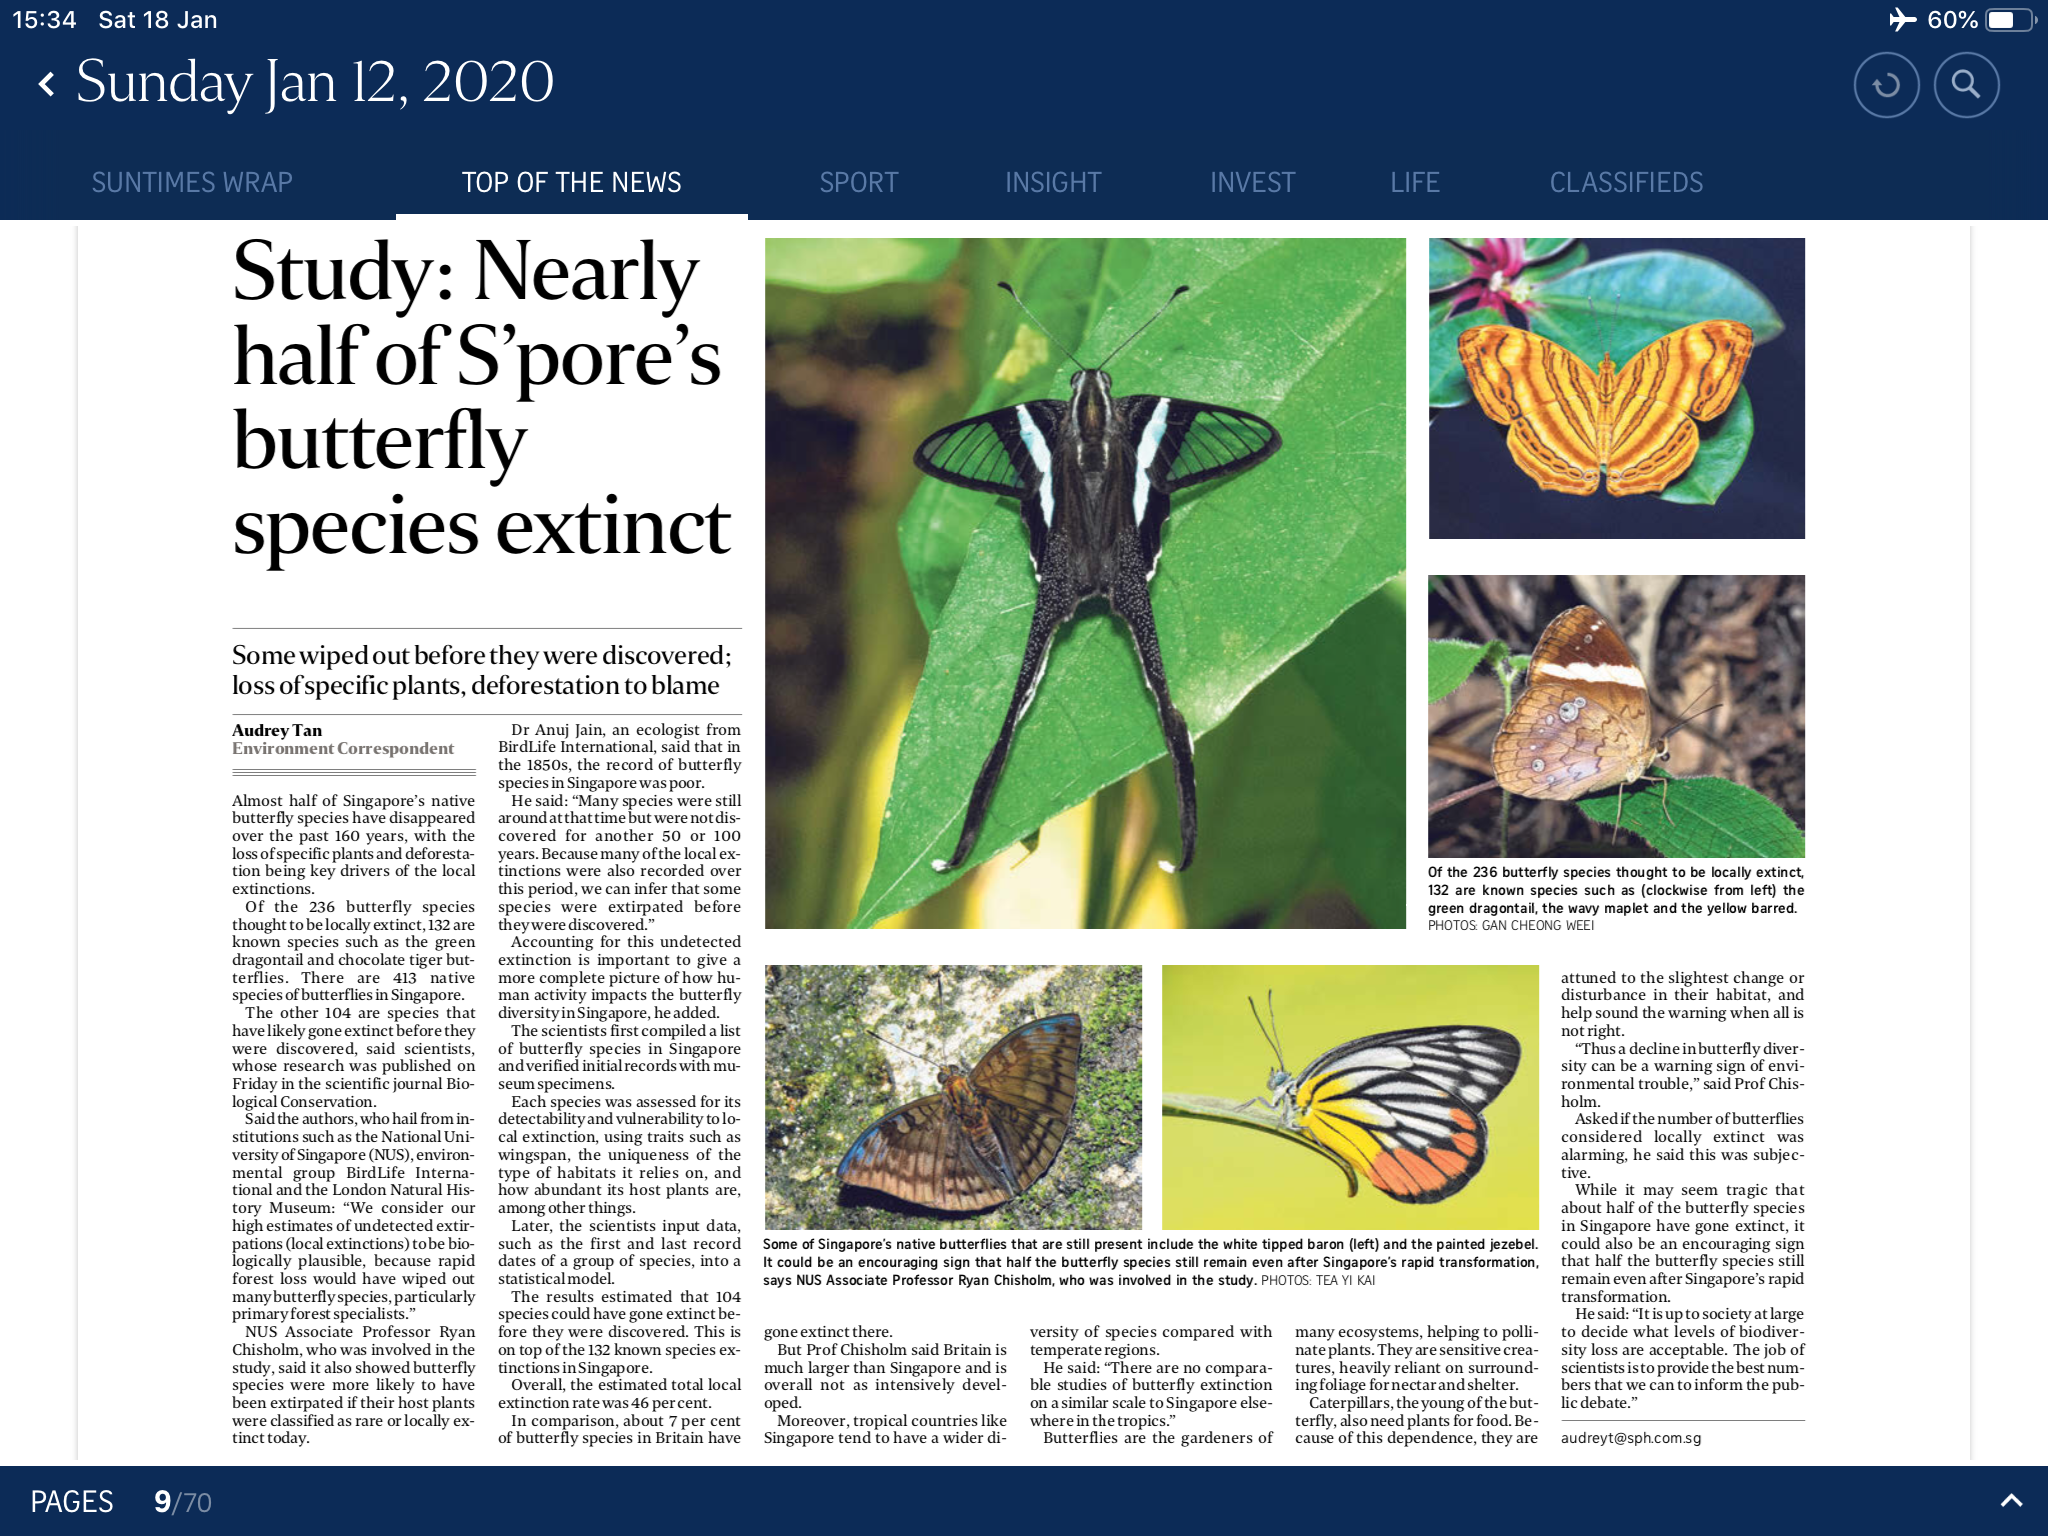Byline: (231, 720, 456, 758)
Headline: (231, 231, 734, 576)
Illustration: (763, 1236, 1540, 1288), (1427, 865, 1808, 931)
Image: (766, 239, 1408, 929), (1430, 239, 1808, 541), (1429, 574, 1806, 858), (1161, 963, 1542, 1231), (764, 963, 1143, 1229)
Text: (497, 723, 743, 1447), (231, 792, 479, 1446), (1559, 970, 1809, 1410), (232, 637, 734, 702), (1027, 1325, 1274, 1446), (764, 1326, 1009, 1447), (1293, 1325, 1538, 1446)
